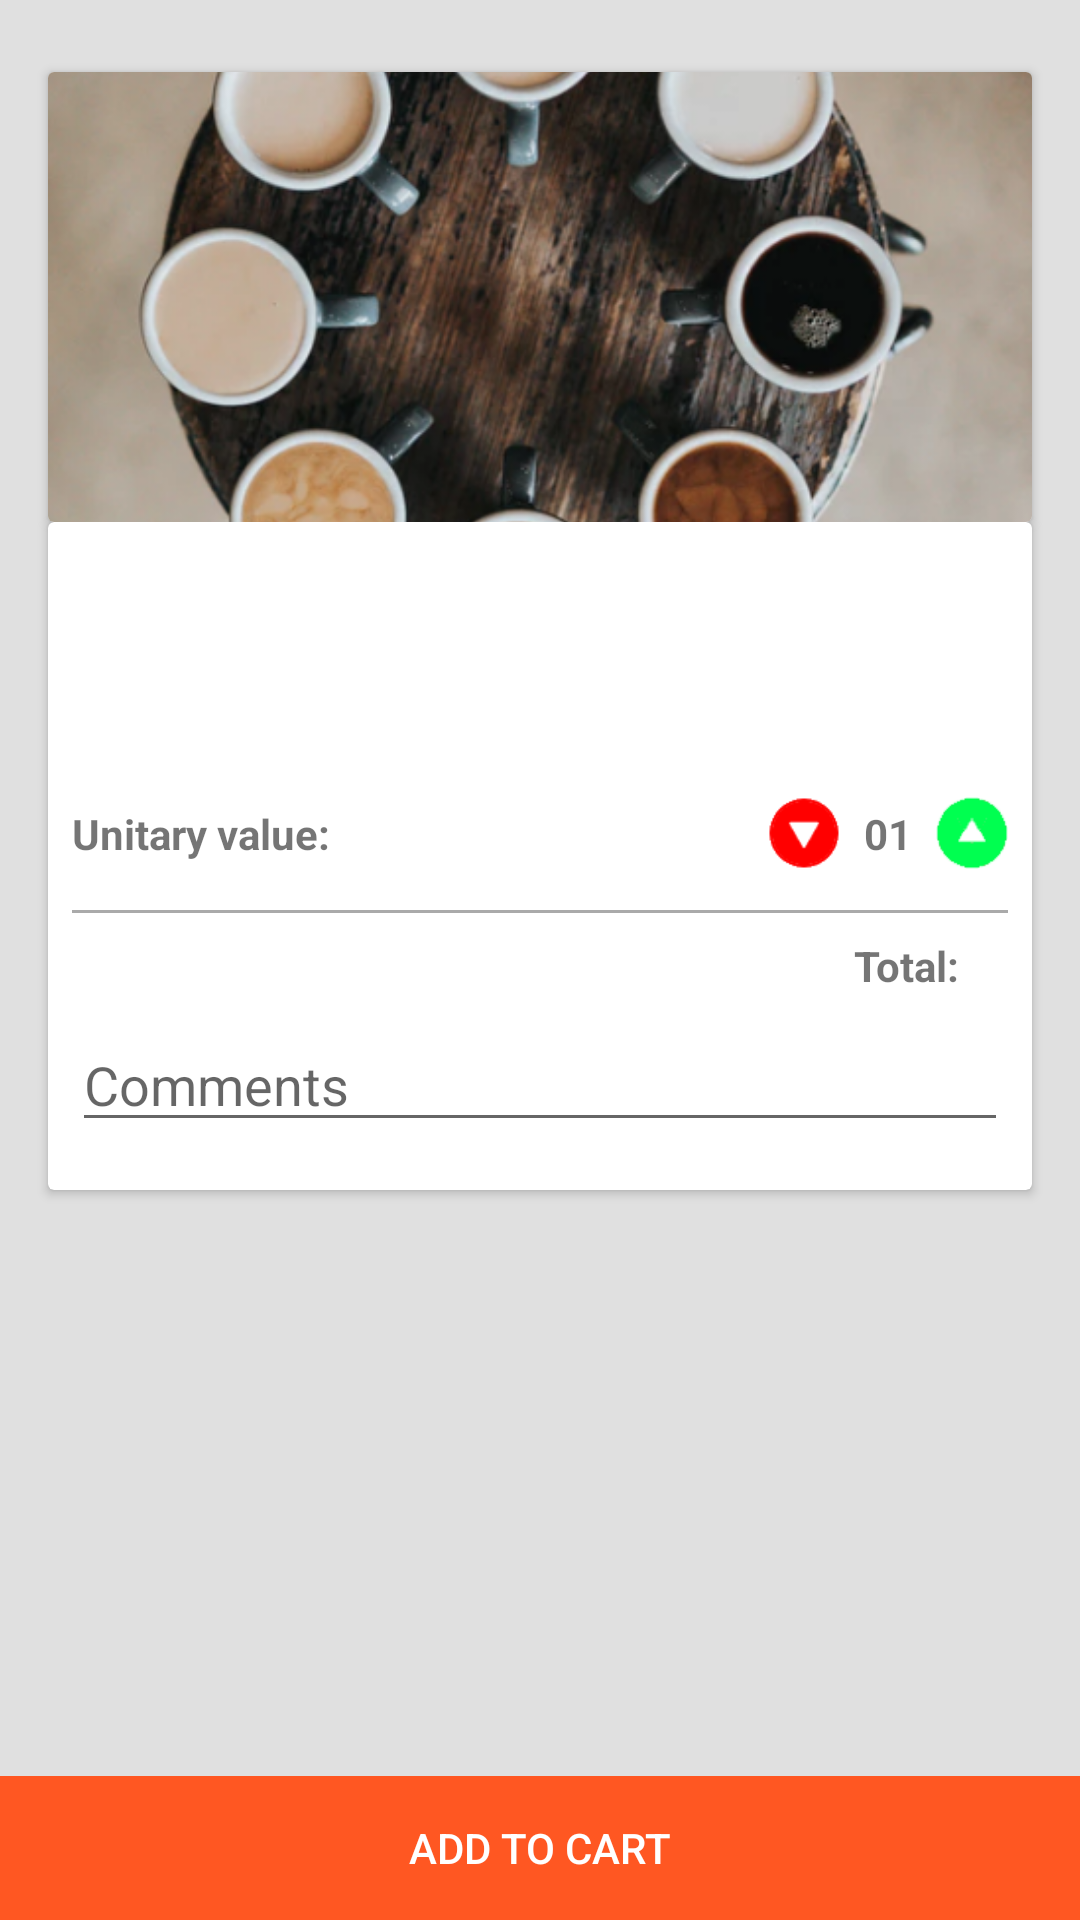

Icon click points for this 1080 × 1920 phone screenshot, format [x,y]:
Button for adding more of this coffee: [972,833]
Button for removing this coffee: [804,833]
